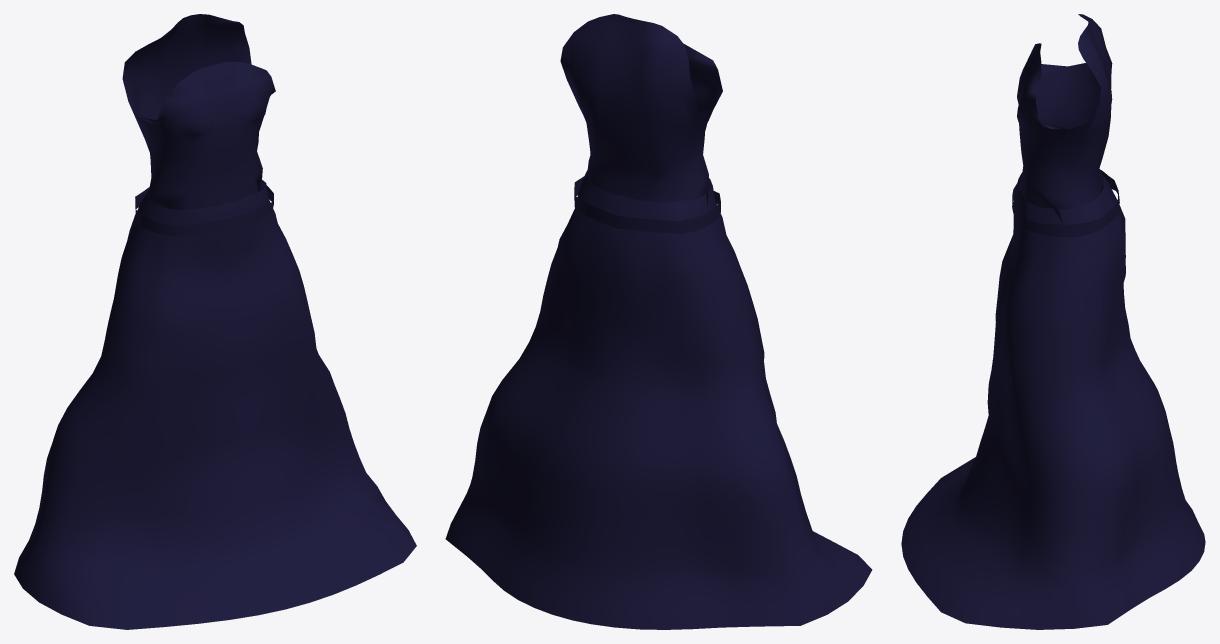
File: gown.glb
3 views of the same model, side by side, from view 1: azimuth 30°, elevation 25°; view 2: azimuth 150°, elevation 25°; view 3: azimuth 270°, elevation 25° (orthographic). The views are drawn at different scales.
Parts seen in each view (by area): view 1: gown; view 2: gown; view 3: gown.
Part boxes in pixels (x1=…): gown: x1=14, y1=14, x2=416, y2=629; gown: x1=445, y1=14, x2=872, y2=629; gown: x1=901, y1=14, x2=1205, y2=629.
Bounding box in the file's own units: 1.08 × 1.53 × 0.8021.
